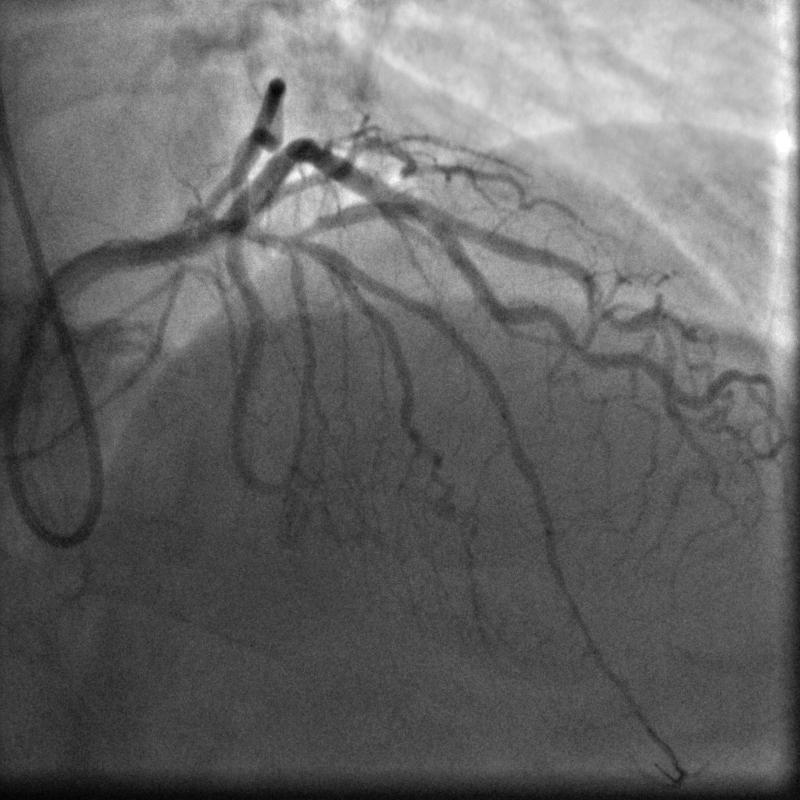Stenosis: (405, 195, 443, 238)
